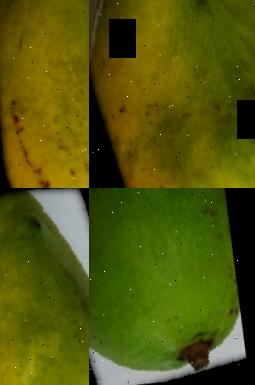PartiallyRipe: (89, 0, 255, 188), (0, 188, 89, 385), (0, 0, 89, 188)
Unripe: (89, 188, 255, 385)
